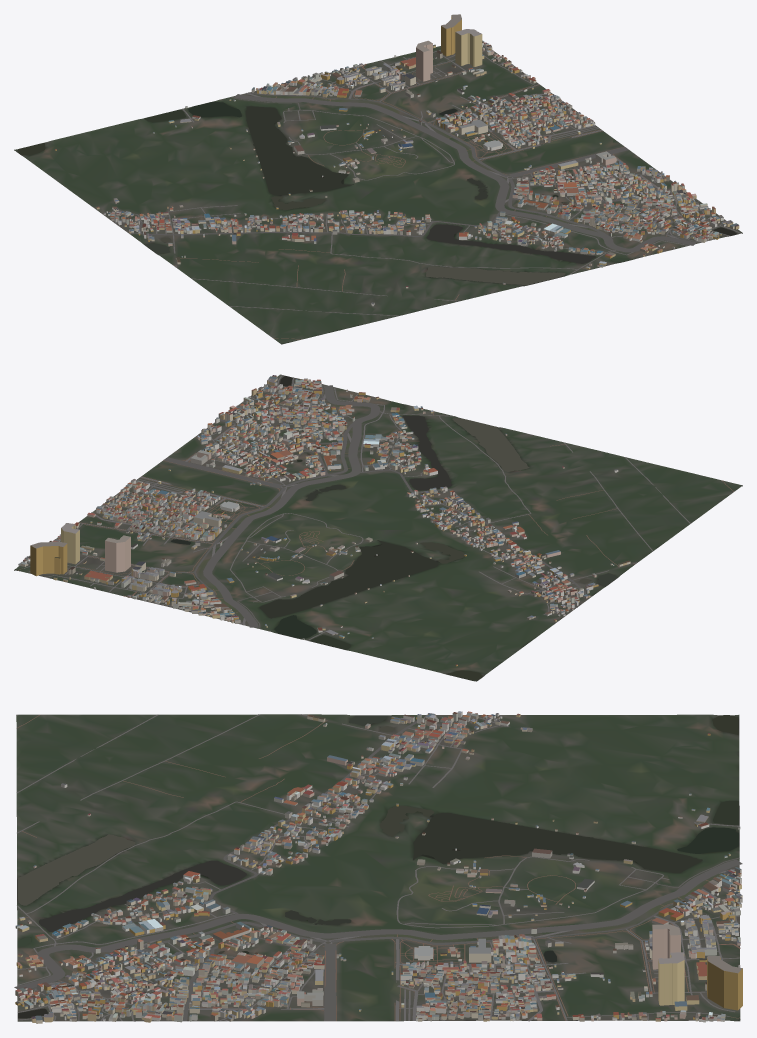
3 renders of one model, top to bottom at view 1: azimuth 30°, elevation 25°; view 2: azimuth 150°, elevation 25°; view 3: azimuth 270°, elevation 25°, orthographic. The views are drawn at different scales.
Parts seen in each view (by area): view 1: ground, buildings, roads, water; view 2: ground, buildings, roads, water; view 3: ground, buildings, roads, water.
Boxes of the visible parts, <box> form: ground: <box>14,45,742,344</box>; buildings: <box>55,14,739,306</box>; roads: <box>114,45,740,344</box>; water: <box>17,101,736,285</box>; ground: <box>14,374,742,681</box>; buildings: <box>18,375,630,666</box>; roads: <box>18,375,742,640</box>; water: <box>15,376,616,680</box>; ground: <box>16,714,740,1021</box>; buildings: <box>15,711,742,1023</box>; roads: <box>14,714,742,1021</box>; water: <box>17,715,740,1020</box>.
Size of the model in its own units: 1413 by 93.55 by 1414.
